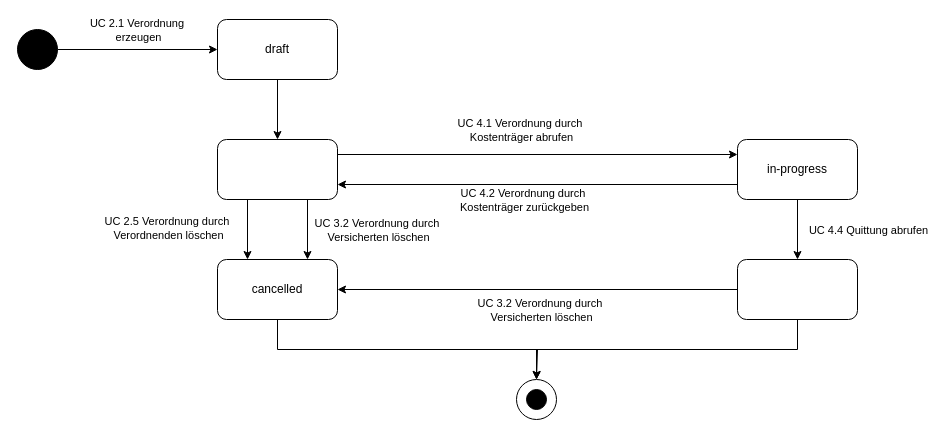
Image size: 945x437. Some labels were removed from this diagram. The box of each missing label's shape, as (x1, y1, x2, y2) in pixels:
completed: (736, 258, 858, 320)
ready: (216, 138, 338, 200)
